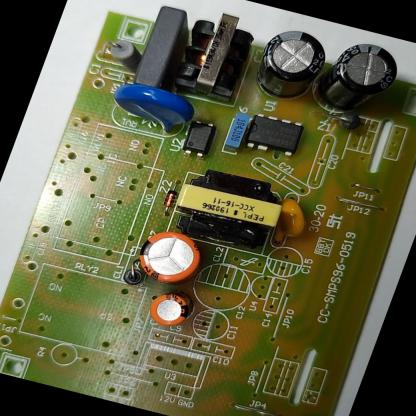Cap1: (132, 226, 206, 288)
Cap2: (145, 289, 194, 329)
Cap3: (246, 23, 334, 106)
Cap4: (310, 35, 405, 120)
MOSFET: (242, 110, 306, 160)
Mov: (104, 77, 202, 139)
Resistor: (102, 37, 146, 74)
Transformer: (164, 161, 291, 255), (169, 4, 266, 105)
